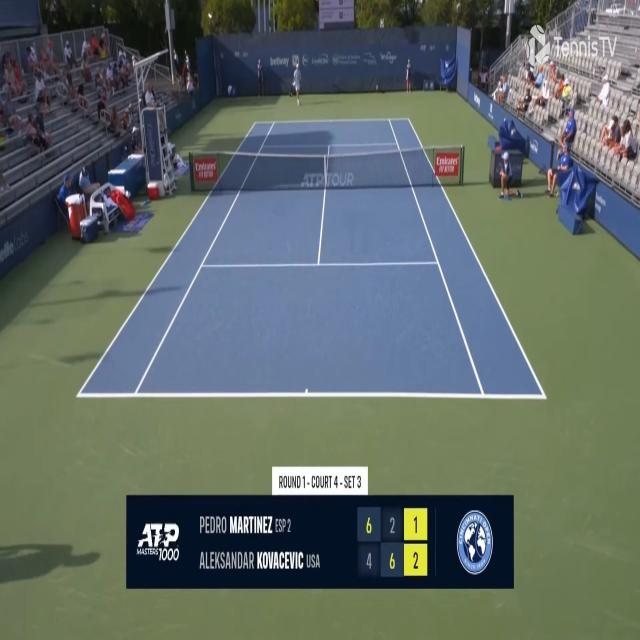tennis-player: (288, 60, 302, 106)
